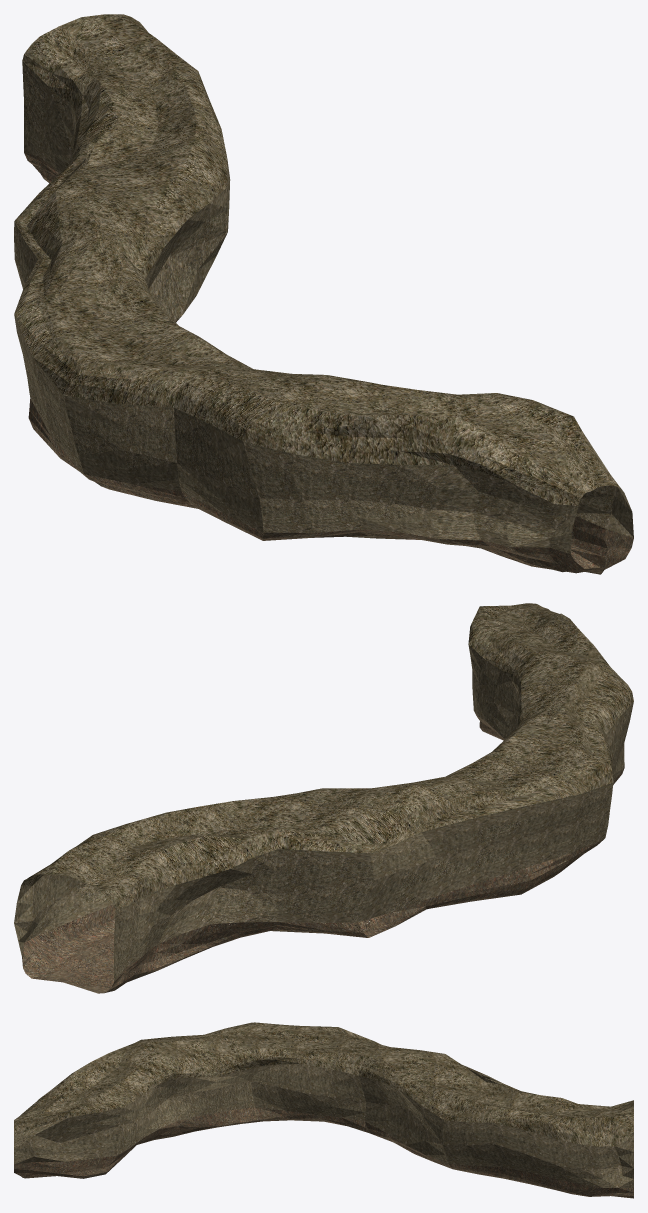
Rendered from thm_tato_fort_tusken_r1_mesh_r1.fbx.
3 renders of one model, top to bottom at view 1: azimuth 30°, elevation 25°; view 2: azimuth 150°, elevation 25°; view 3: azimuth 270°, elevation 25°, orthographic. The views are drawn at different scales.
Visible parts, largest first — view 1: mesh_node; view 2: mesh_node; view 3: mesh_node.
Boxes of the visible parts, x1,y1,x2,y2 form: mesh_node: (14, 14, 633, 574); mesh_node: (14, 603, 633, 993); mesh_node: (14, 1022, 633, 1198).
Size of the model in its own units: 24.38 by 8.64 by 54.97.
